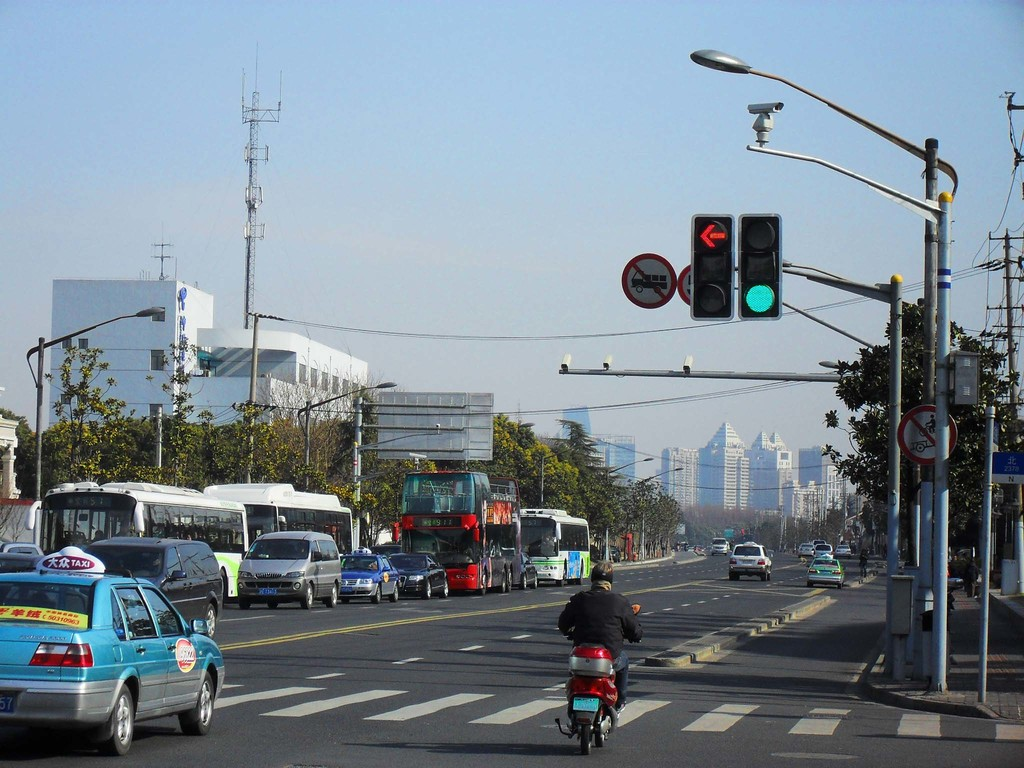red_light: (739, 216, 783, 320)
